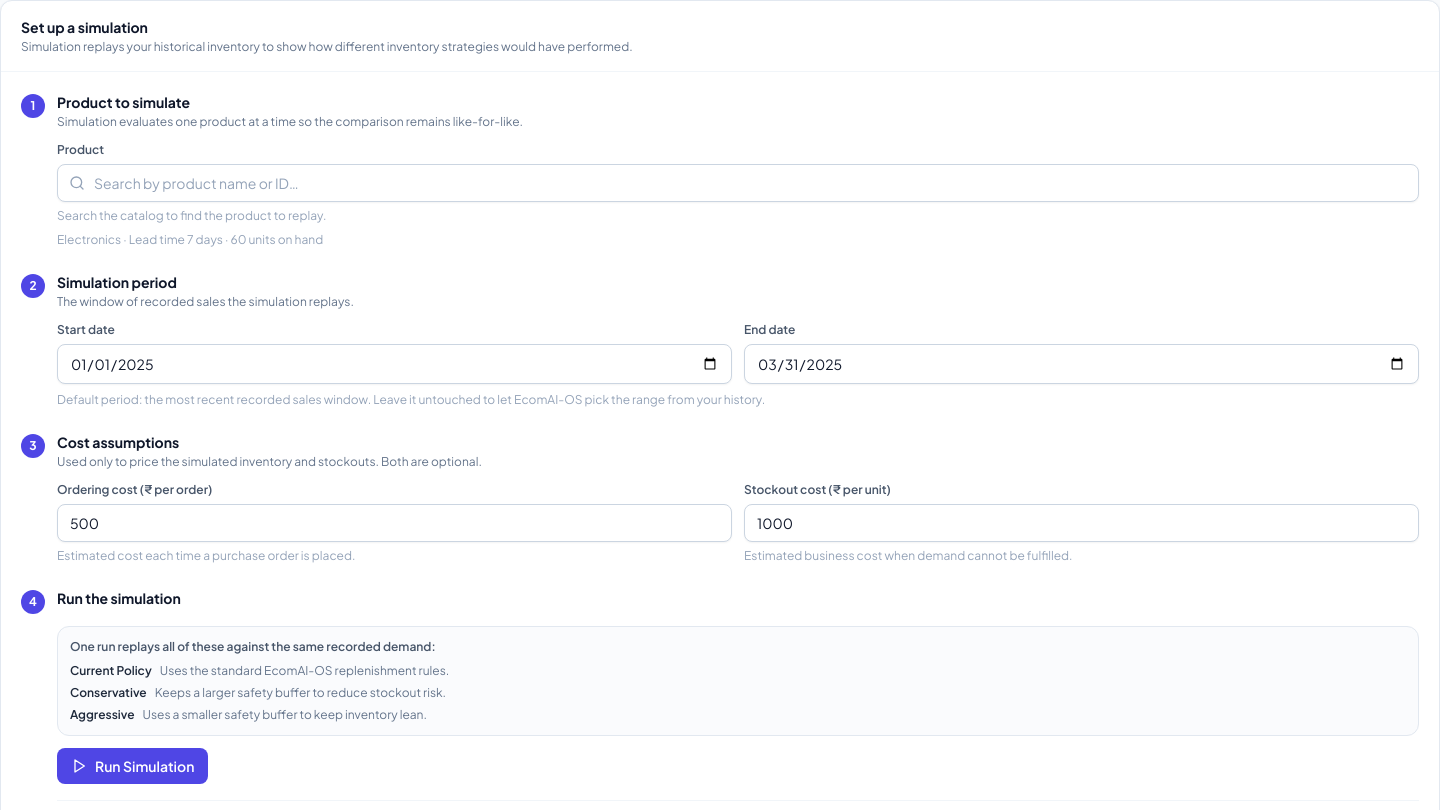
Test case: one product at a time › offers the whole catalog when nothing has been typed
Click the dropdown labelled "Product": (738, 183) [57, 164, 1419, 202]
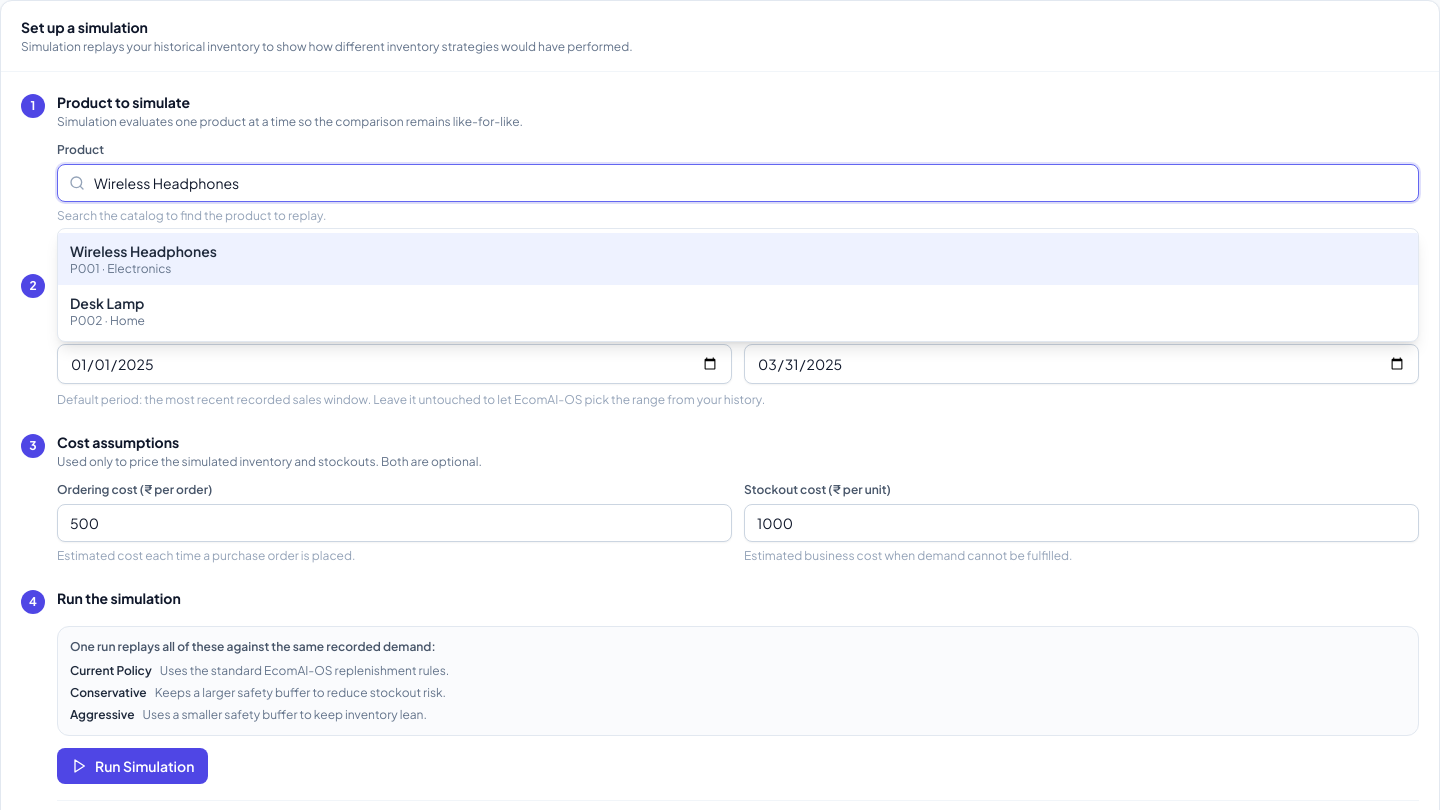
Expected: the number of options is 2, [58, 233, 1418, 285]; [70, 294, 145, 328]
